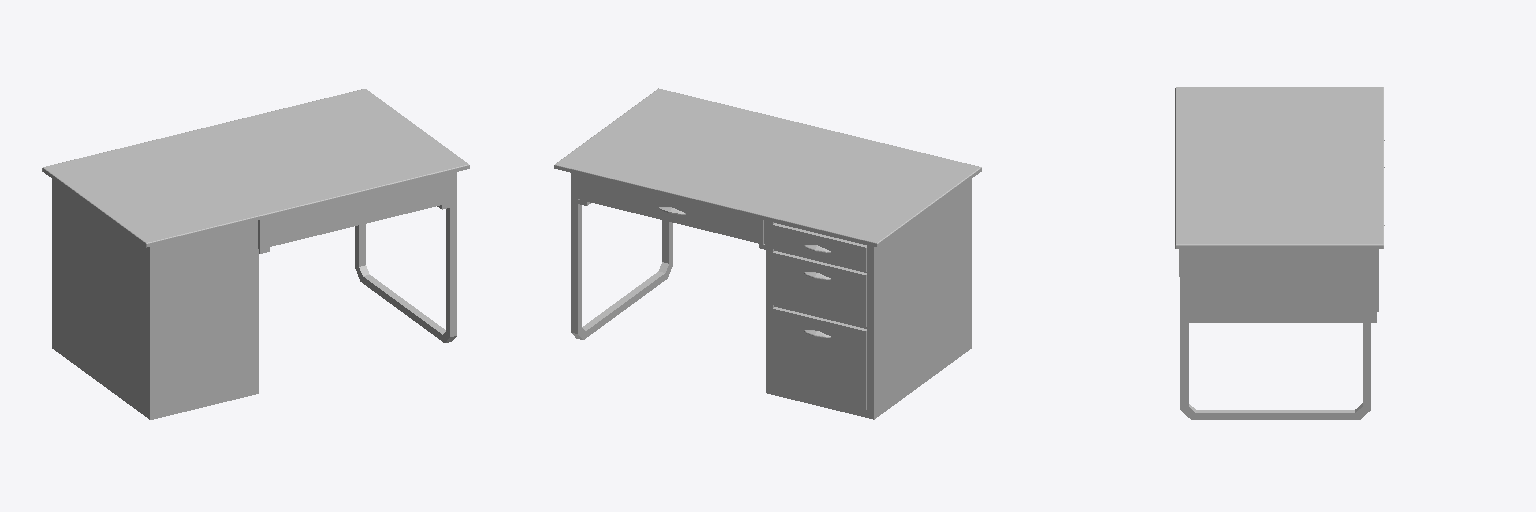
The model's file is desk2.obj.
3 views of the same model, side by side, from view 1: azimuth 30°, elevation 25°; view 2: azimuth 150°, elevation 25°; view 3: azimuth 270°, elevation 25° (orthographic).
Visible parts, largest first — view 1: Cube; view 2: Cube; view 3: Cube.
Boxes of the visible parts, x1=… form: Cube: x1=42, y1=89, x2=469, y2=419; Cube: x1=554, y1=88, x2=981, y2=419; Cube: x1=1175, y1=87, x2=1384, y2=419.
Bounding box in the file's own units: 1.73 × 0.9237 × 0.9691.